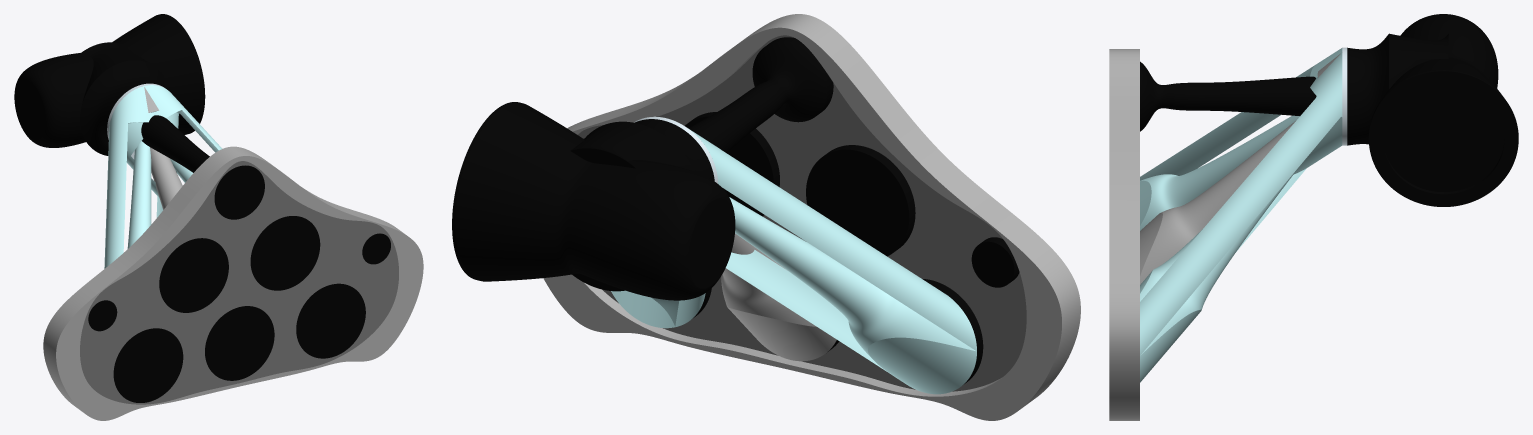
File: leftJet.glb
3 views of the same model, side by side, from view 1: azimuth 30°, elevation 25°; view 2: azimuth 150°, elevation 25°; view 3: azimuth 270°, elevation 25° (orthographic). The views are drawn at different scales.
Parts seen in each view (by area): view 1: Part 10, Part 1, in, in 8, Part 2, Part 6, Part 3, Part 8, Part 7, in 4, Part 9, in 6 (+5 smaller); view 2: in, Part 1, in 8, Part 10, Part 7, in 9, in 7, in 2, in 6, Part 8, Part 4, in 4 (+1 smaller); view 3: in, in 6, Part 1, in 8, in 9, in 7, in 4, in 2, in 5.
Boxes of the visible parts, <box> form: Part 10: <box>80,161,398,404</box>; Part 1: <box>43,146,423,420</box>; in: <box>14,14,205,147</box>; in 8: <box>104,86,178,268</box>; Part 2: <box>113,328,183,402</box>; Part 6: <box>205,306,274,380</box>; Part 3: <box>296,283,365,358</box>; Part 8: <box>250,216,320,290</box>; Part 7: <box>159,238,228,312</box>; in 4: <box>80,60,164,155</box>; Part 9: <box>214,165,264,219</box>; in 6: <box>126,85,222,197</box>; in: <box>452,102,735,300</box>; Part 1: <box>543,14,1080,420</box>; in 8: <box>688,128,976,394</box>; Part 10: <box>578,35,1026,391</box>; Part 7: <box>806,145,915,256</box>; in 9: <box>688,41,827,153</box>; in 7: <box>721,233,836,361</box>; in 2: <box>570,121,694,171</box>; in 6: <box>611,290,705,328</box>; Part 8: <box>685,112,779,216</box>; Part 4: <box>971,237,1019,287</box>; in 4: <box>635,119,714,181</box>; in: <box>1368,14,1518,206</box>; in 6: <box>1140,53,1342,382</box>; Part 1: <box>1109,49,1139,420</box>; in 8: <box>1140,48,1342,230</box>; in 9: <box>1140,61,1316,131</box>; in 7: <box>1140,52,1342,284</box>; in 4: <box>1347,34,1388,145</box>; in 2: <box>1389,33,1448,89</box>; in 5: <box>1342,47,1347,145</box>.
Bounding box in the file's own units: 2.55 × 1.7 × 2.02.
10 materials, 9 textured.
